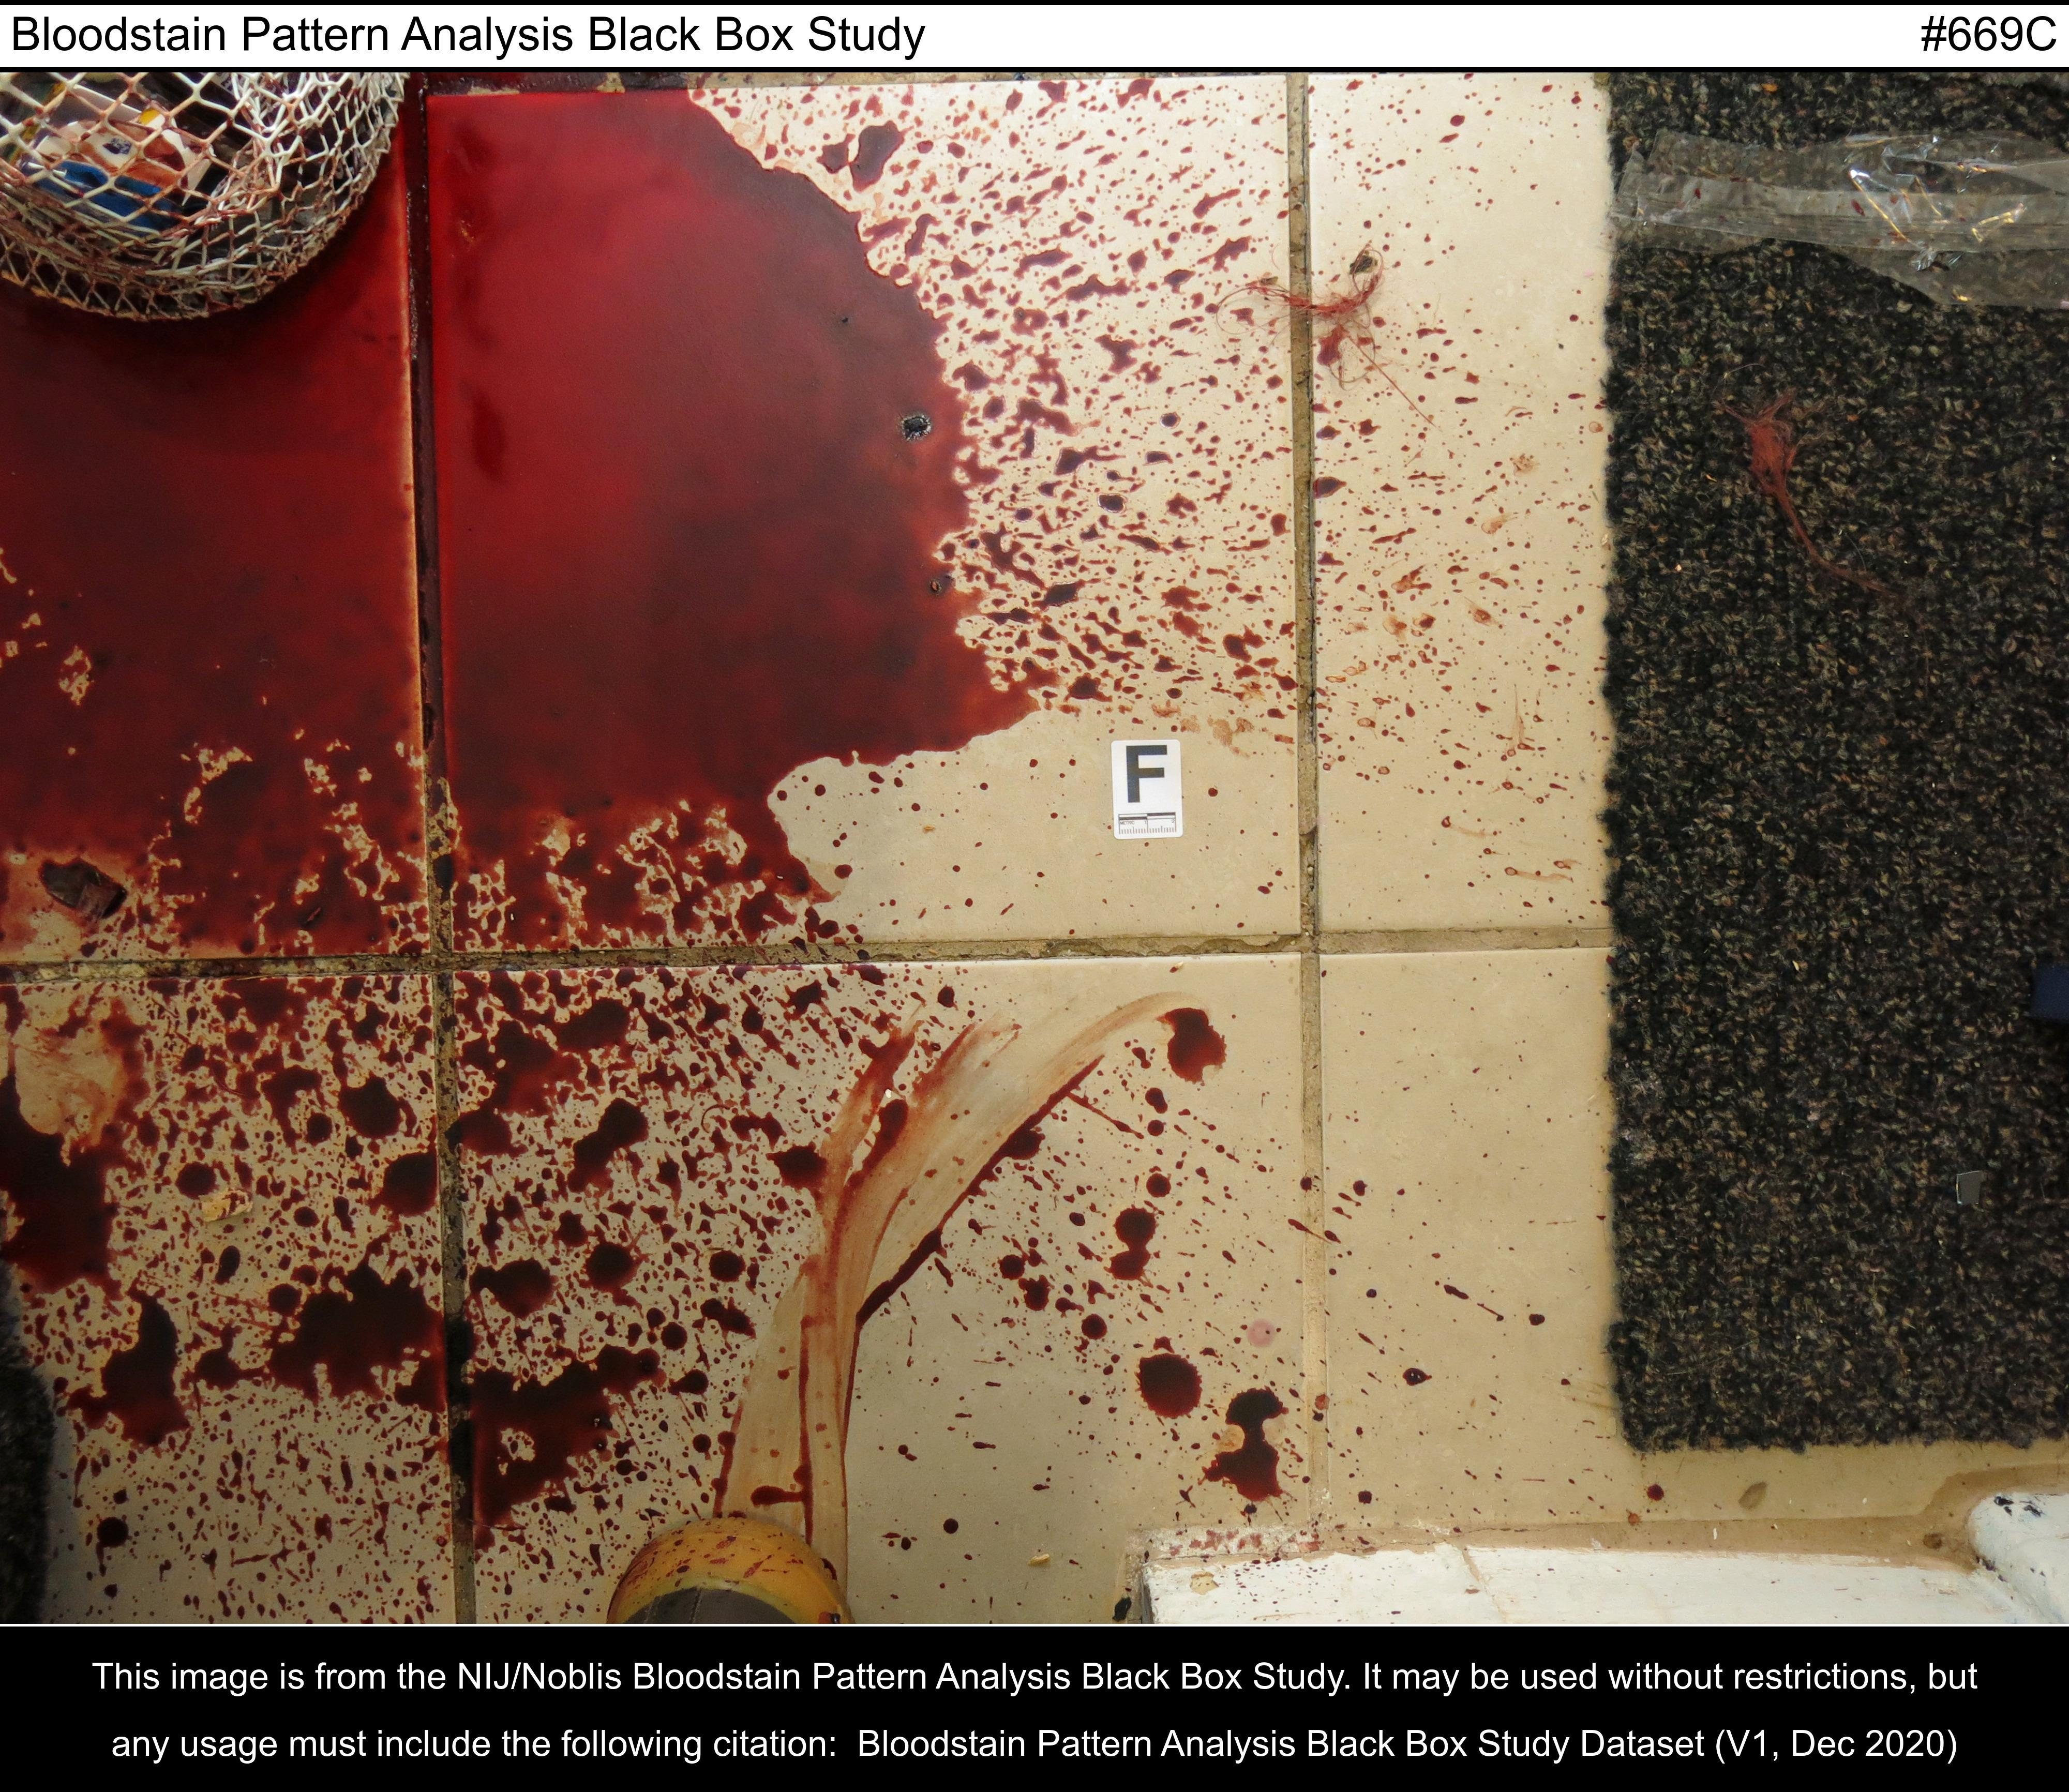Passive: (0, 49, 1108, 1493)
